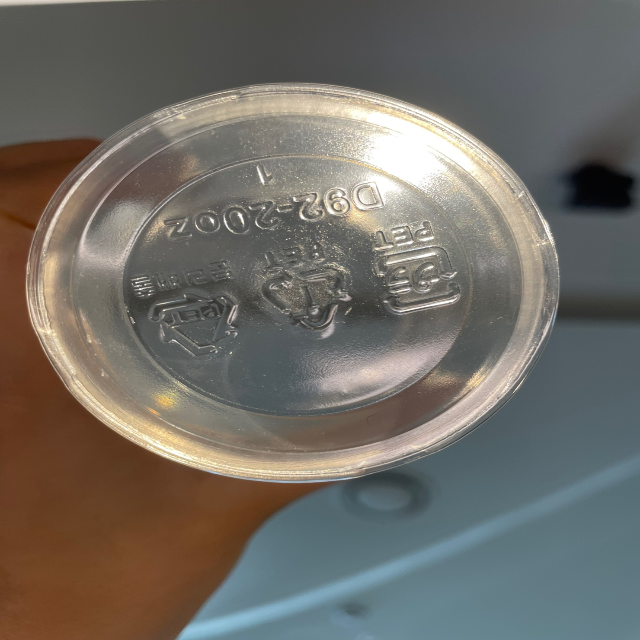pet: (125, 256, 247, 370), (261, 234, 355, 343), (368, 220, 466, 323)
